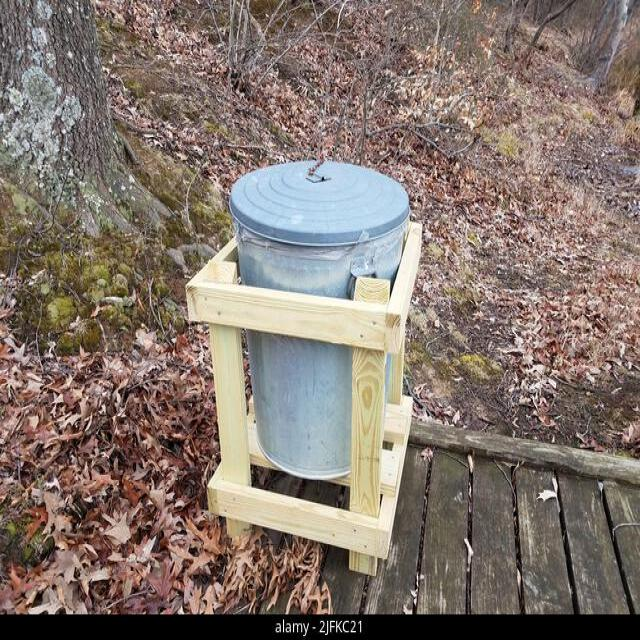metal: (181, 160, 416, 479)
